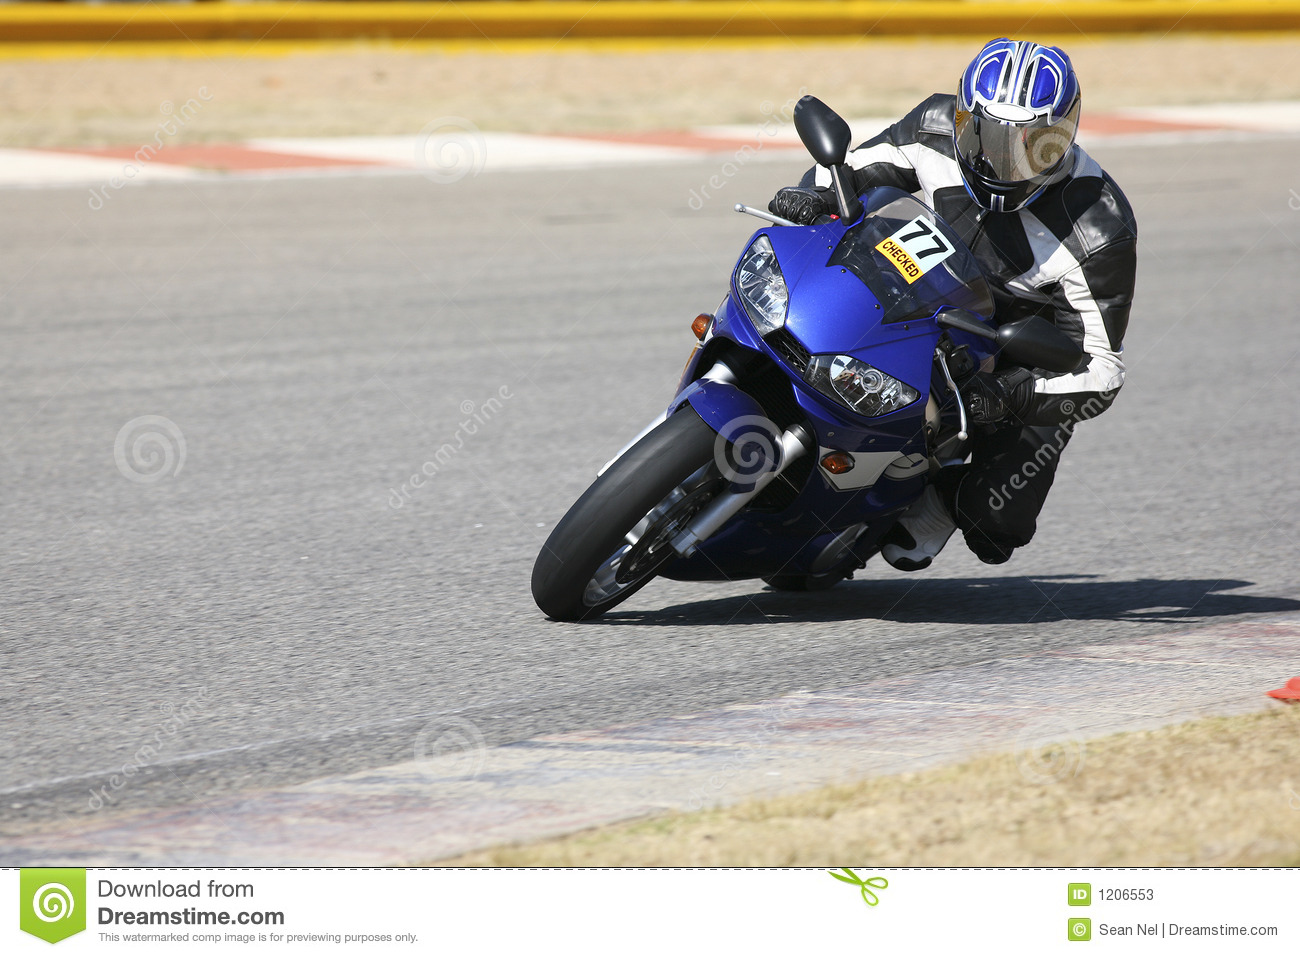helmet: (954, 46, 1092, 219)
